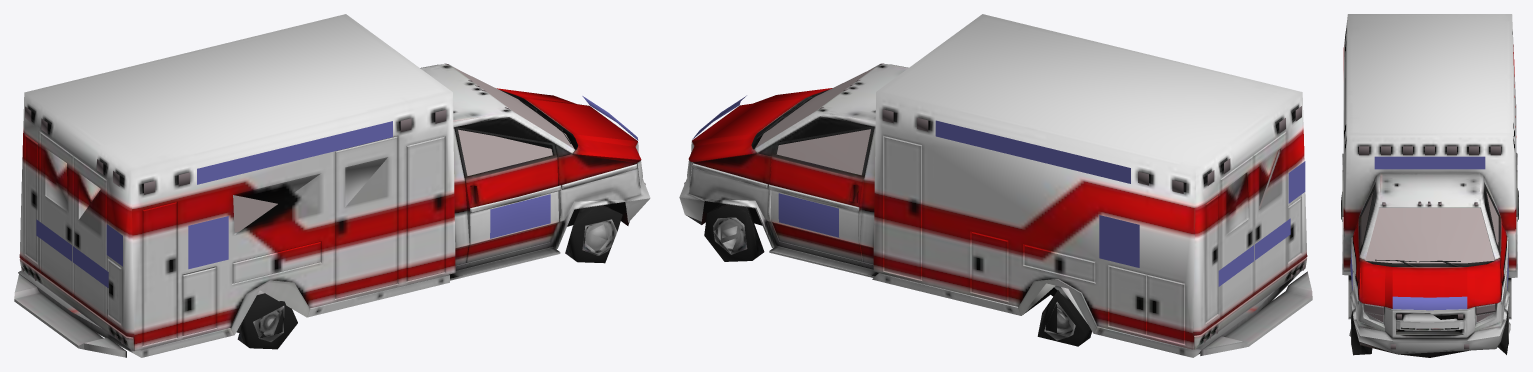
Rendered from civ-ambulance.lod1.glb.
The picture shows the model from 3 angles, left to right: view 1: azimuth 30°, elevation 25°; view 2: azimuth 150°, elevation 25°; view 3: azimuth 270°, elevation 25°; orthographic projection. The views are drawn at different scales.
Parts seen in each view (by area): view 1: ambulance_ambulance_0, ambulance_decals_tex_0; view 2: ambulance_ambulance_0, ambulance_decals_tex_0; view 3: ambulance_ambulance_0, ambulance_decals_tex_0.
Boxes of the visible parts, bbox=[...] form: ambulance_ambulance_0: bbox=[14, 14, 650, 357]; ambulance_decals_tex_0: bbox=[21, 63, 645, 344]; ambulance_ambulance_0: bbox=[679, 14, 1312, 357]; ambulance_decals_tex_0: bbox=[684, 63, 1305, 342]; ambulance_ambulance_0: bbox=[1341, 14, 1518, 357]; ambulance_decals_tex_0: bbox=[1350, 146, 1508, 349].
Bounding box in the file's own units: 6.89 × 2.42 × 2.4.
2 materials, 1 textured.
